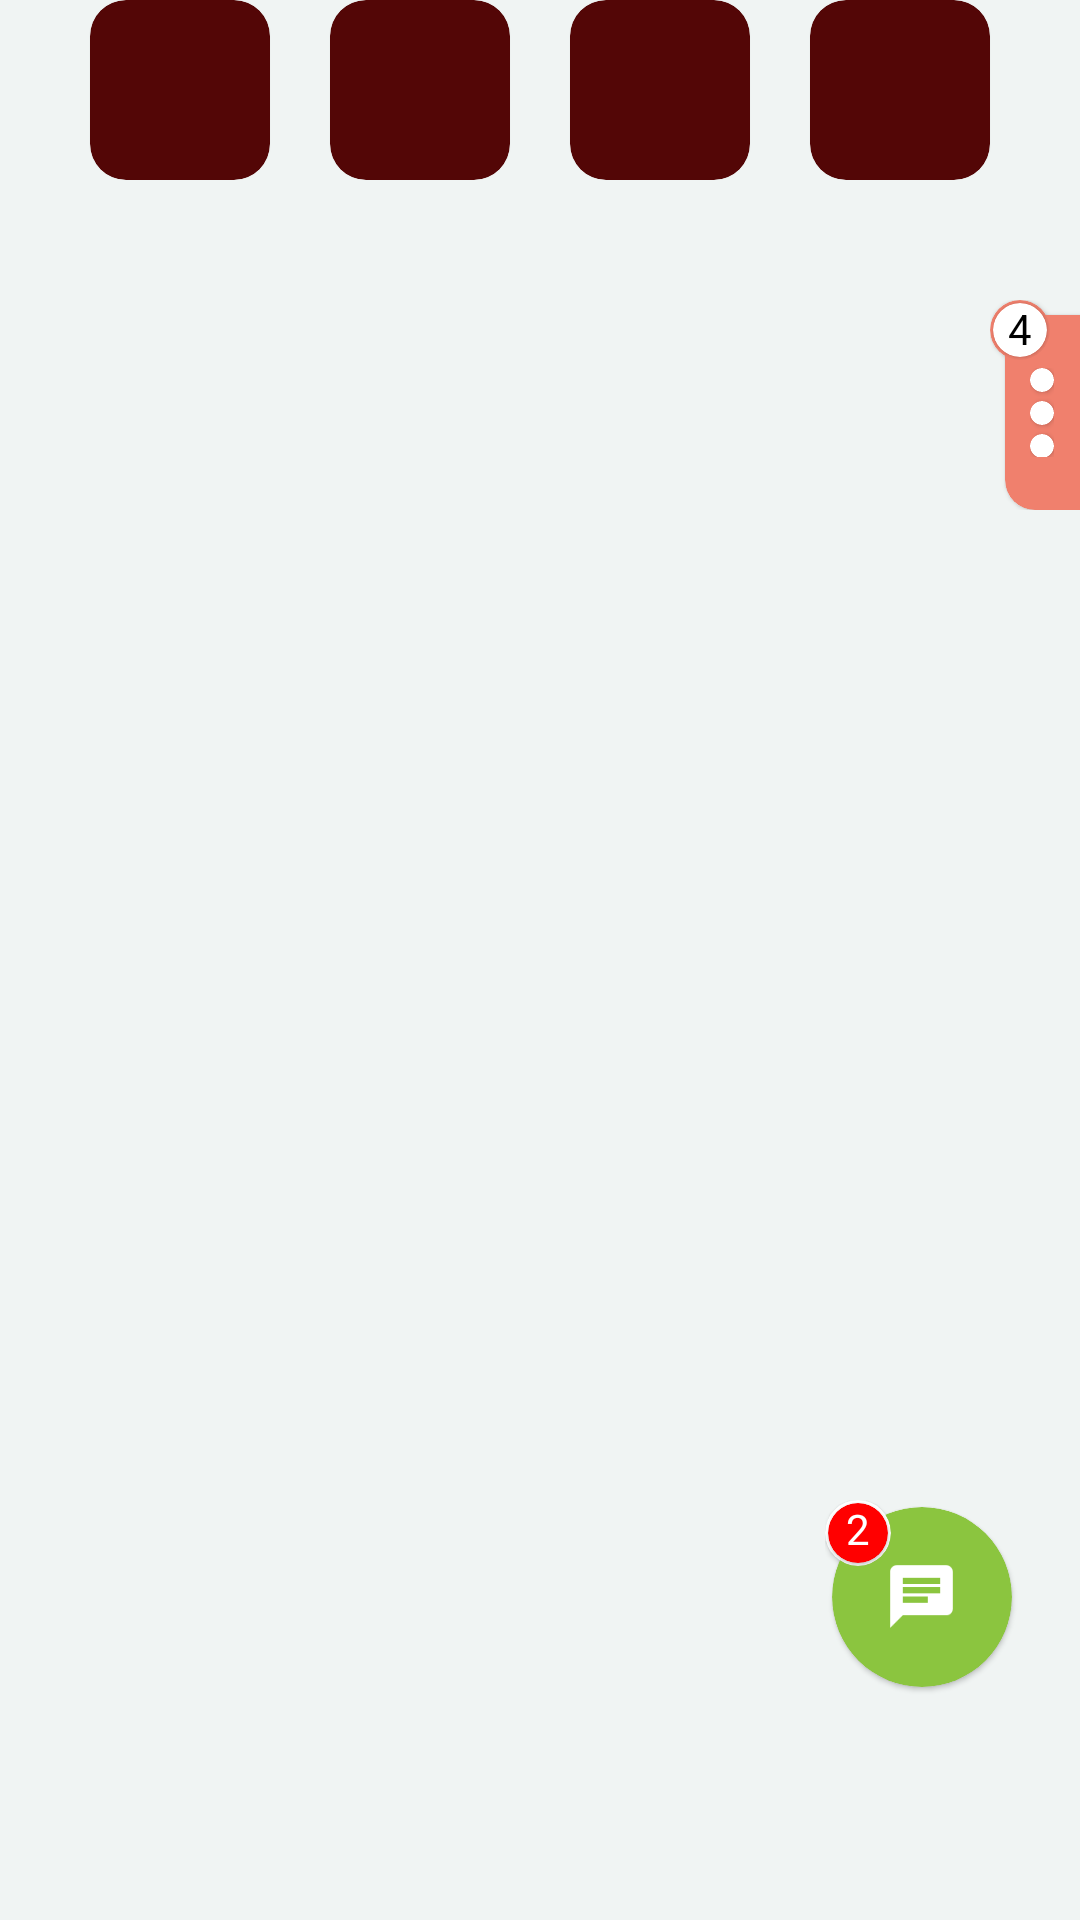

Where to tap for icons on this 1080px×1920px app screen, as (x,y):
message: (921,1596)
